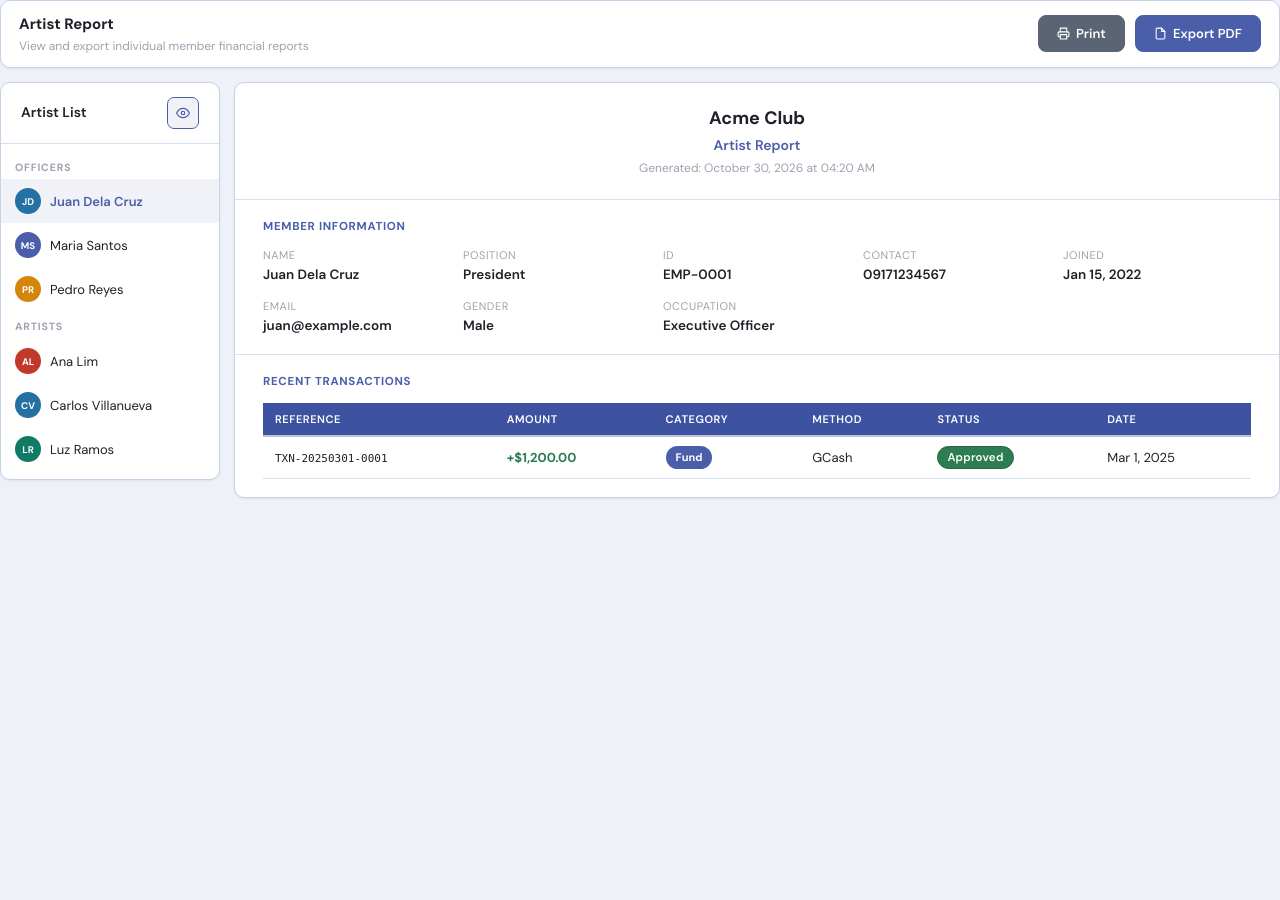
Scenario: Employee Report wording (B-53) and org name in report headers (B-36) › title, tooltip, group label, modal and export use the people label
Click the button titled "View All Artists".
click(183, 112)  # box [167, 96, 199, 128]
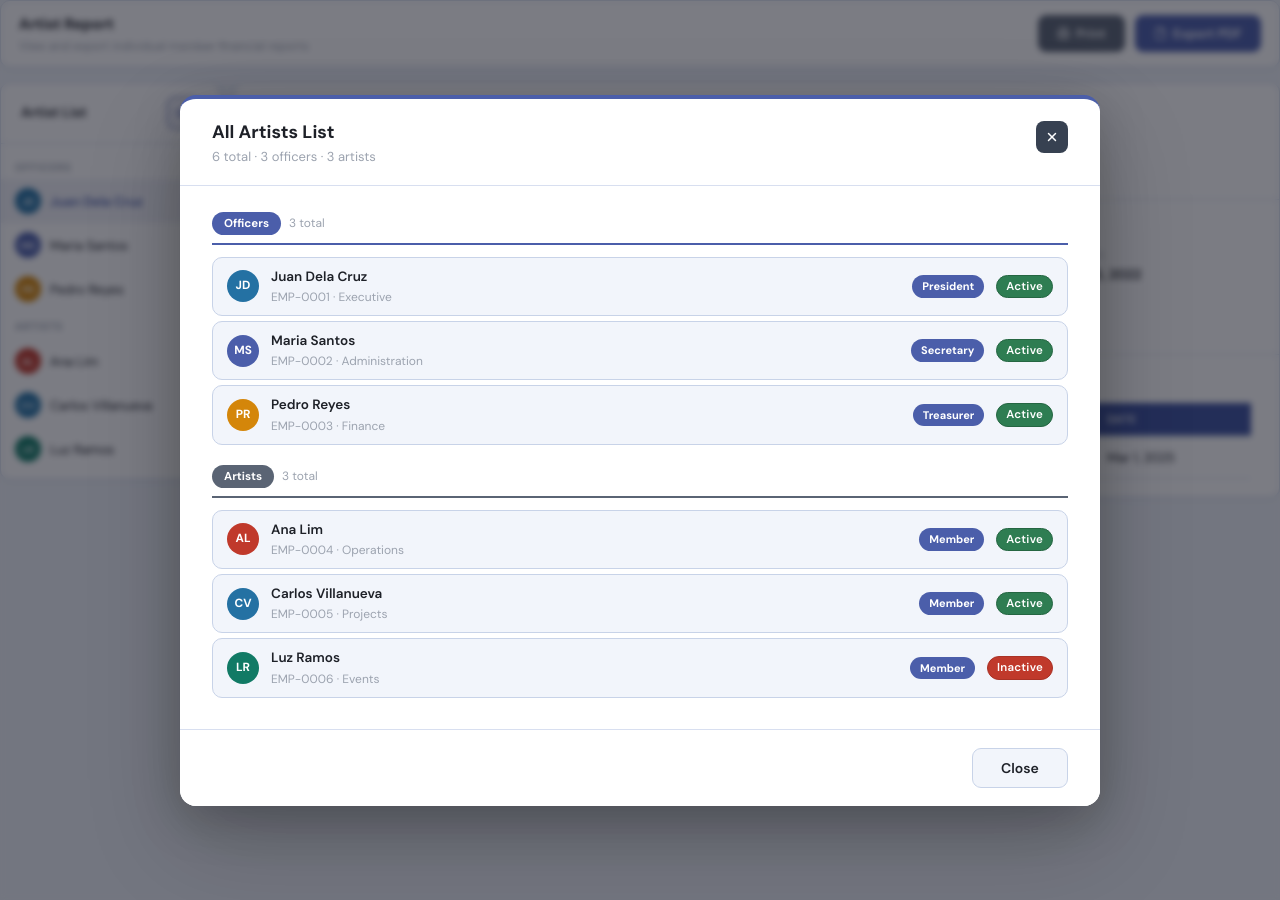
Expected: the text "All Artists List" is shown, [212, 120, 334, 143]
Expected: the text "6 total · 3 officers · 3 artists" is shown, [212, 147, 376, 166]
